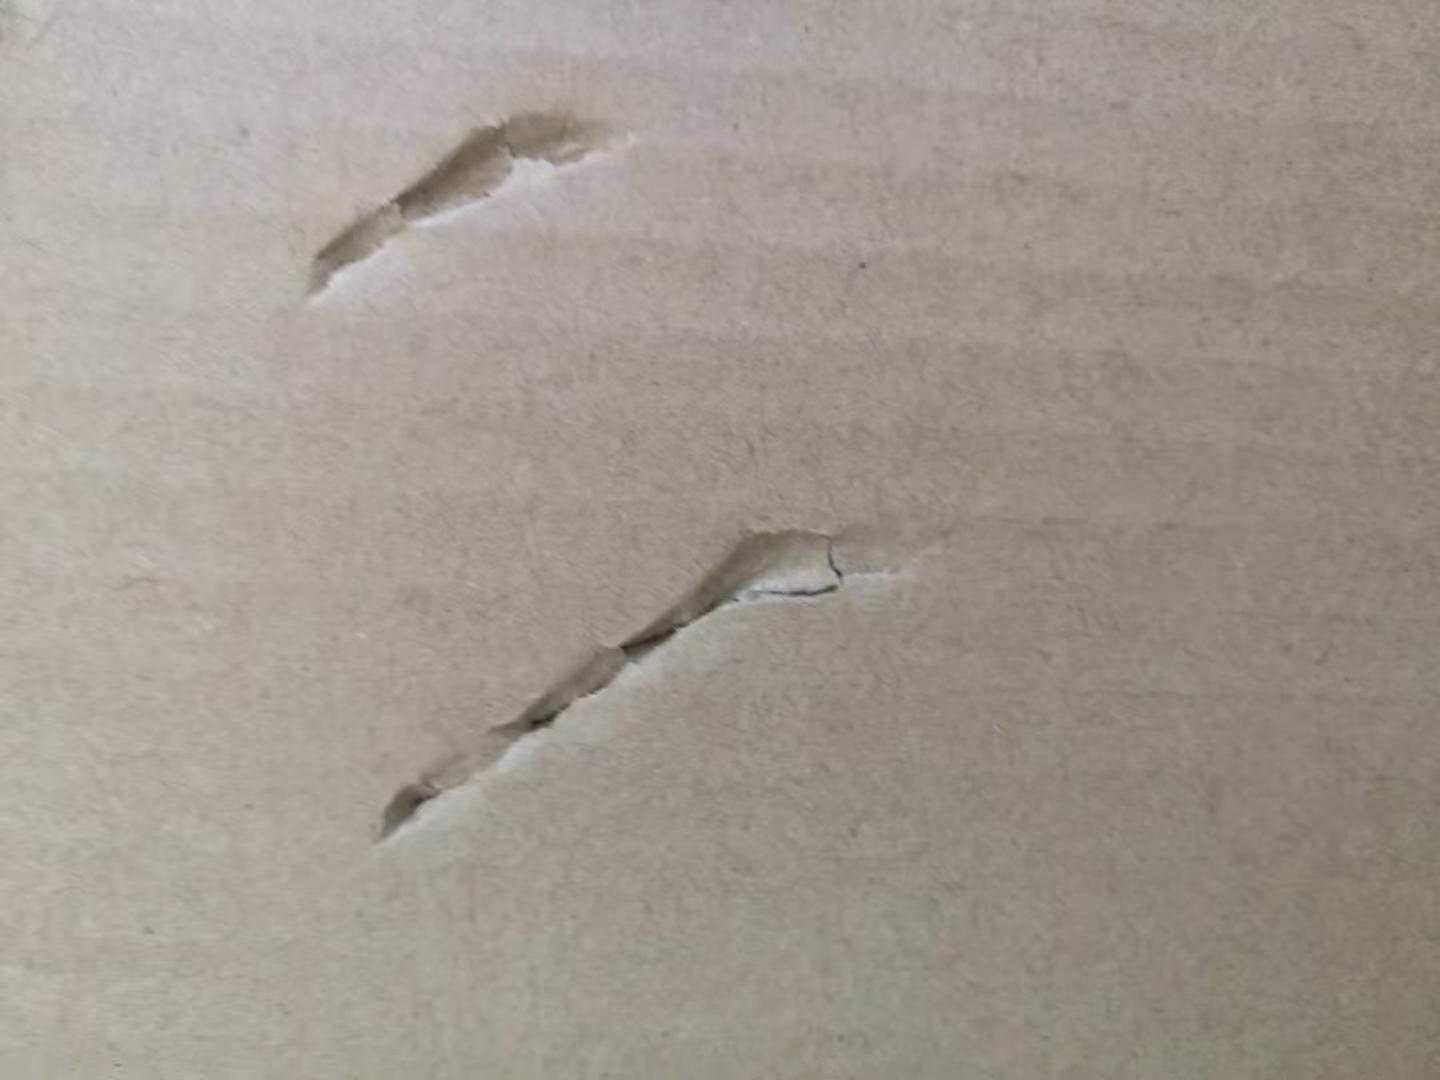defect: (320, 479, 996, 875), (262, 65, 664, 320)
